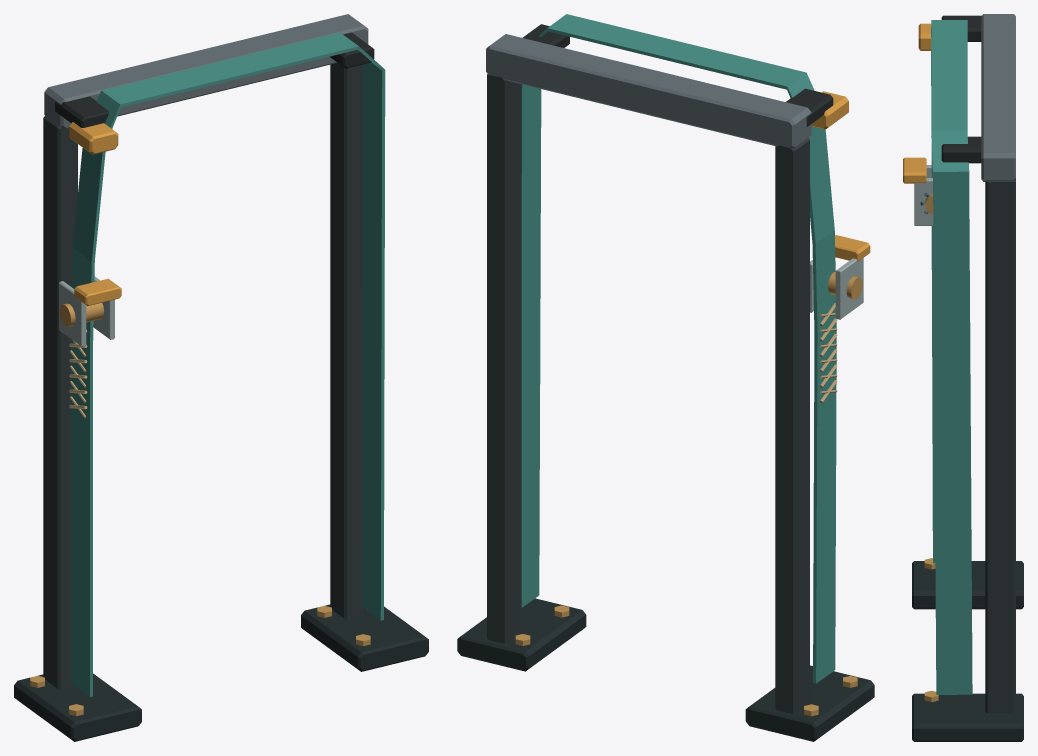
File: strap-repaired.glb
The picture shows the model from 3 angles, left to right: view 1: azimuth 30°, elevation 25°; view 2: azimuth 150°, elevation 25°; view 3: azimuth 270°, elevation 25°; orthographic projection. The views are drawn at different scales.
Visible parts, largest first — view 1: RB_strap_repaired; view 2: RB_strap_repaired; view 3: RB_strap_repaired.
Boxes of the visible parts, x1=… form: RB_strap_repaired: x1=14, y1=14, x2=428, y2=741; RB_strap_repaired: x1=457, y1=14, x2=874, y2=741; RB_strap_repaired: x1=903, y1=14, x2=1023, y2=741.
Size of the model in its own units: 0.93 by 1.53 by 0.287.
